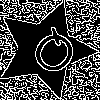Q: (20, 24, 83, 87)
